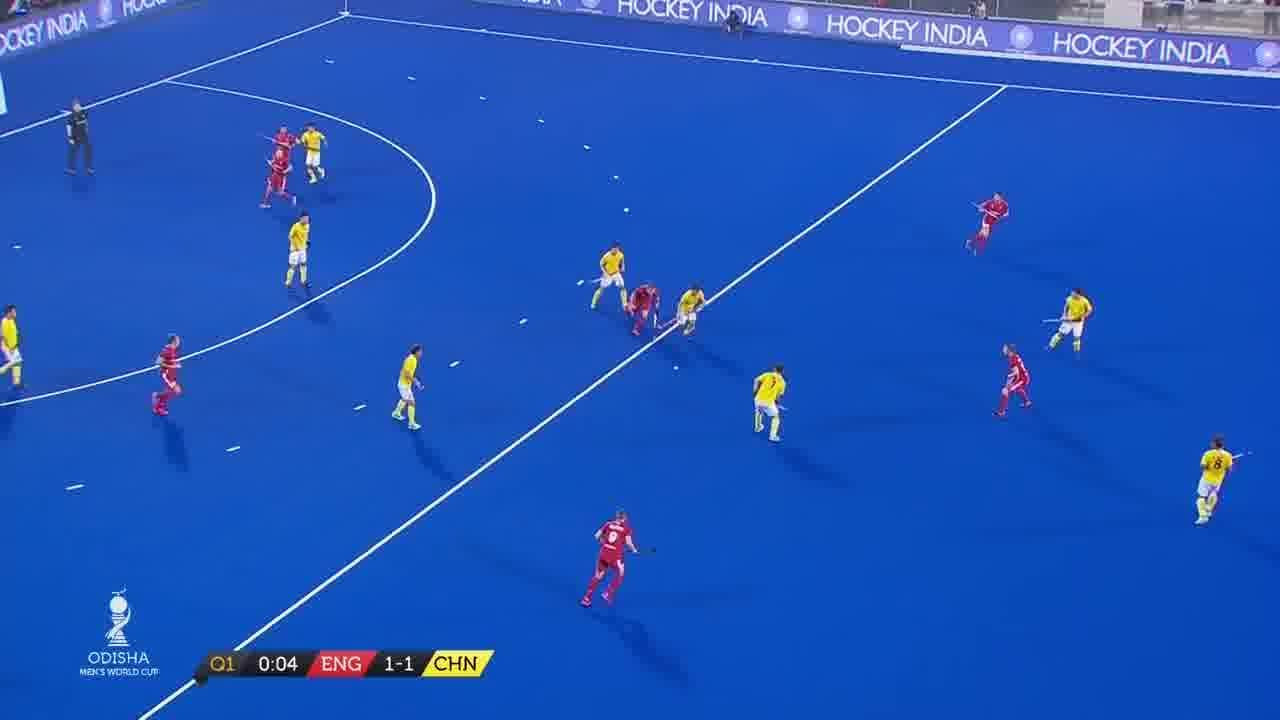ball: (673, 360, 684, 380)
